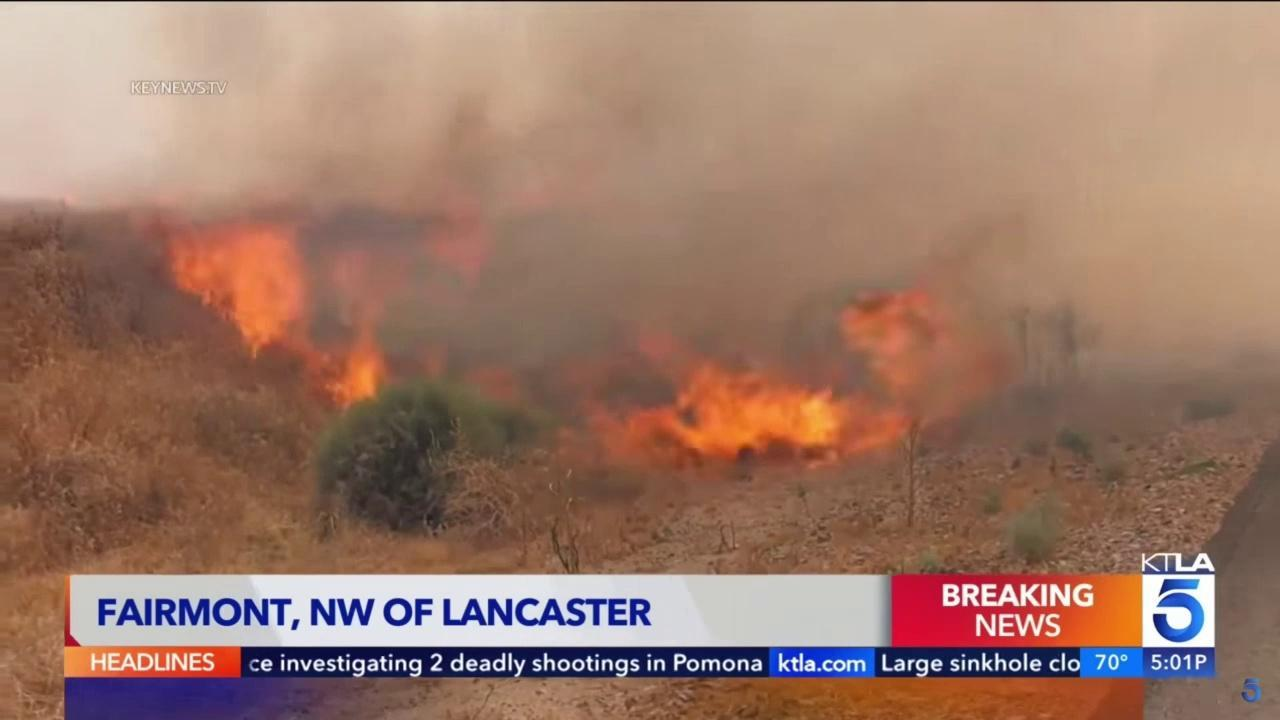fire: (117, 190, 530, 417), (553, 285, 1017, 477)
smoke: (98, 0, 1280, 437)
